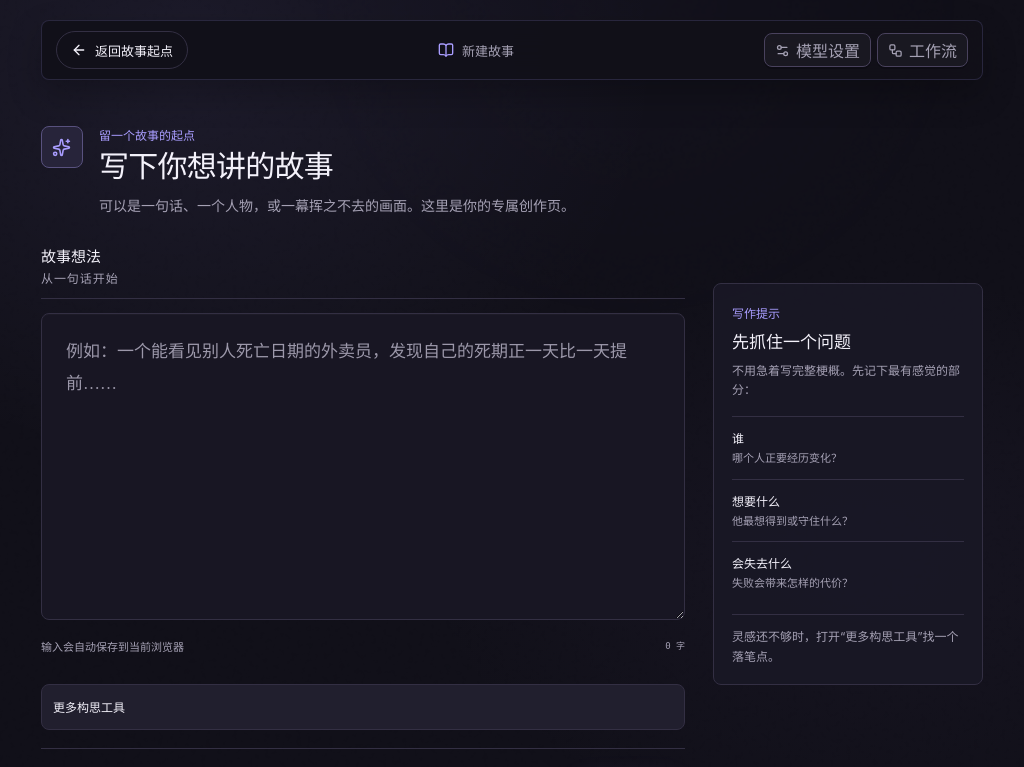
CreativeHome author entry › saves a custom preset without leaving the story form
In the text box labelled "故事想法": (363, 466) [41, 313, 685, 620], type "一座只在雨夜出现的车站"
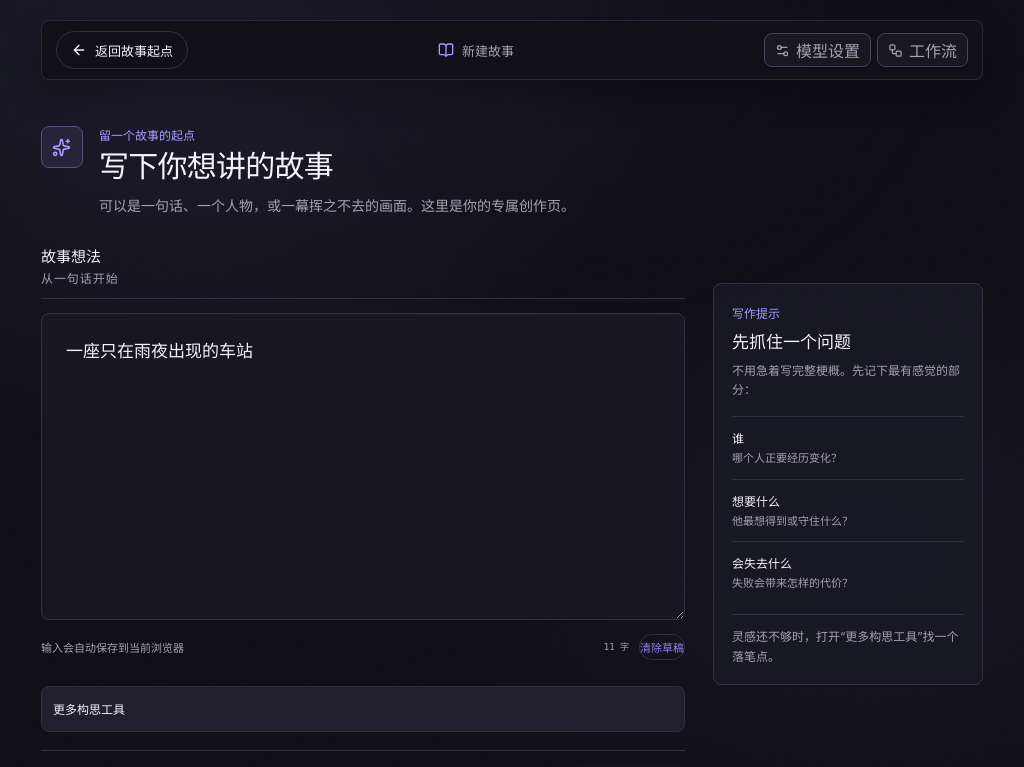
Click the heading "更多构思工具": click(89, 710) [53, 702, 125, 717]
(page scrolled)
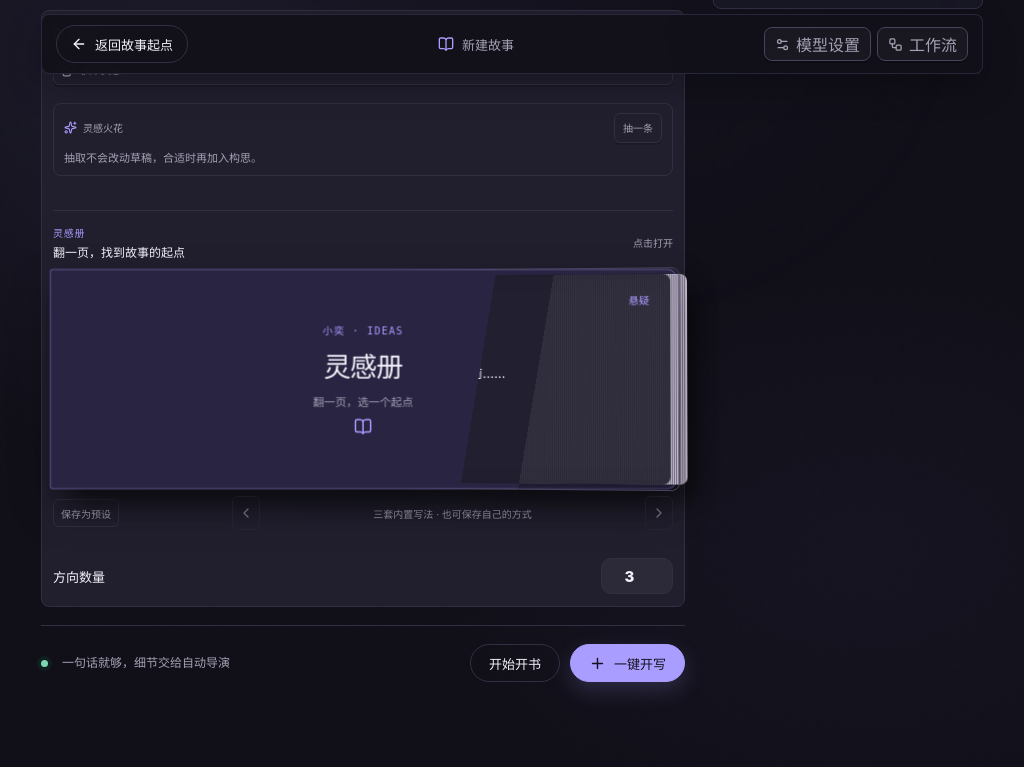
Click the button "保存为预设": click(86, 513) [53, 499, 119, 527]
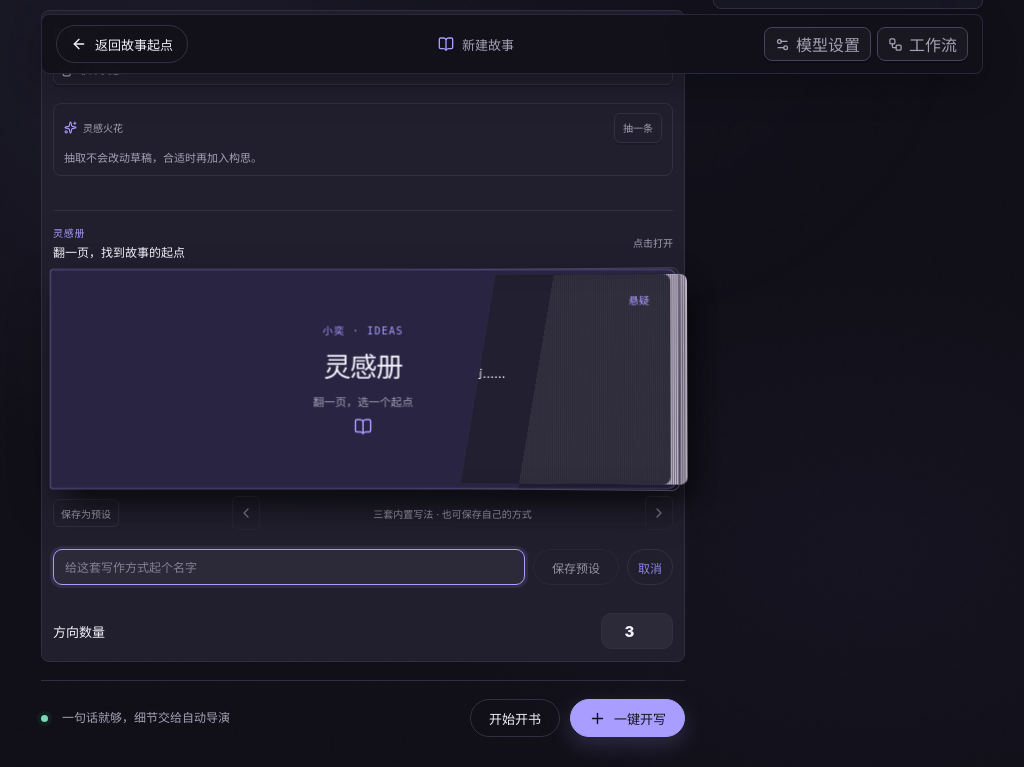
In the field named "预设名称": (289, 567) [53, 549, 525, 585], type "雨夜车站"
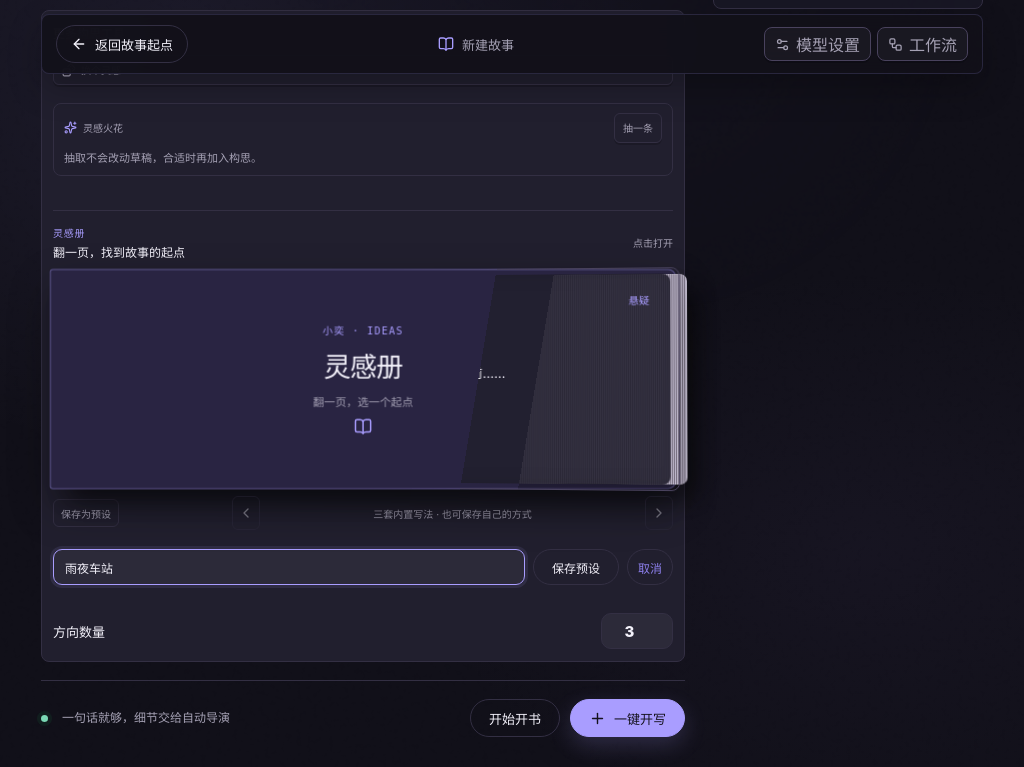
Click the button "保存预设": click(576, 567) [533, 549, 619, 585]
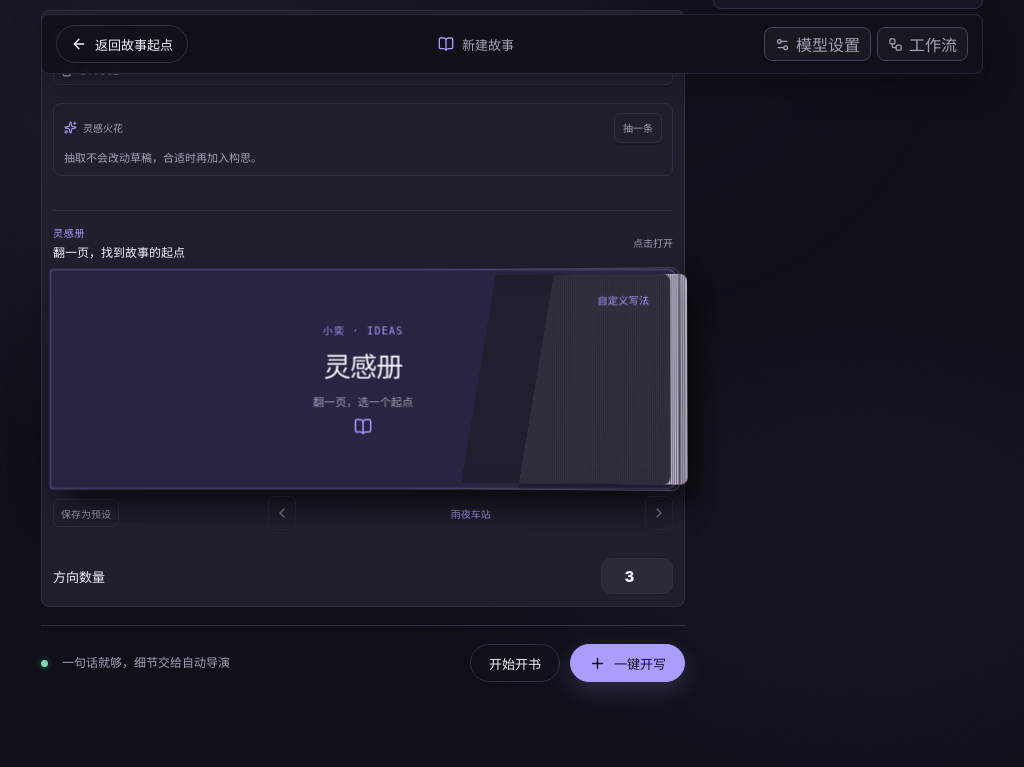
Expected: the button "雨夜车站" is shown, [446, 504, 496, 523]
